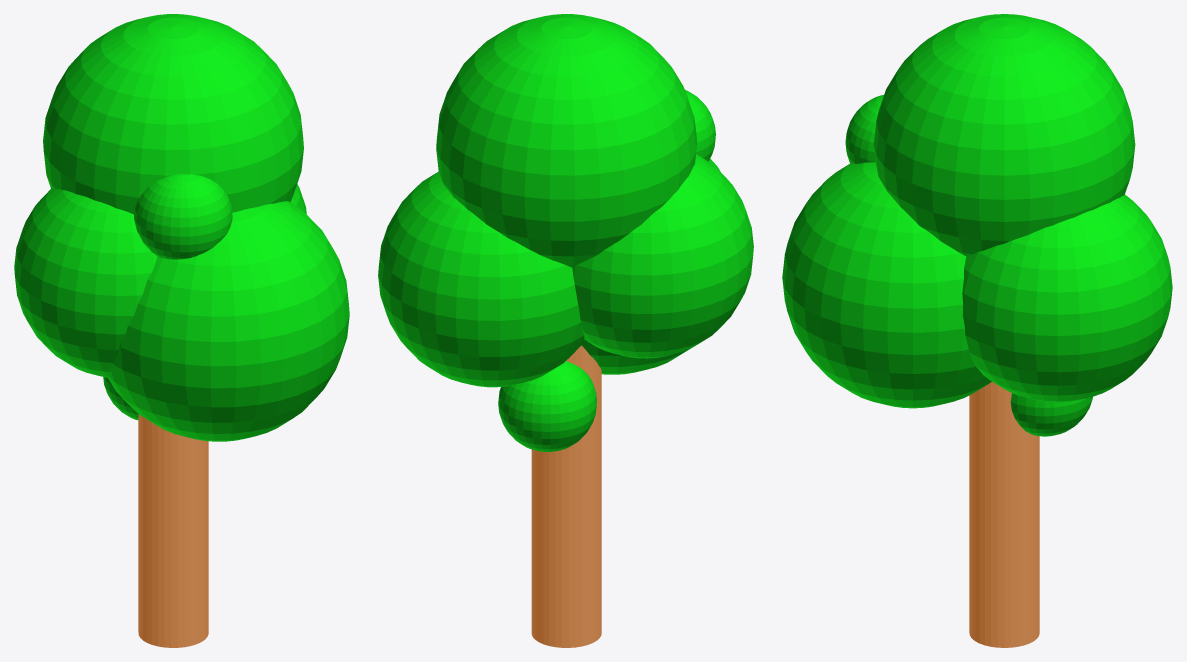
The model's file is tree_custom.gltf.
3 renders of one model, left to right at view 1: azimuth 30°, elevation 25°; view 2: azimuth 150°, elevation 25°; view 3: azimuth 270°, elevation 25°, orthographic.
Parts seen in each view (by area): view 1: Sphere, Cylinder; view 2: Sphere, Cylinder; view 3: Sphere, Cylinder.
Part boxes in pixels (x1,y1,x2,y2): Sphere: [14, 14, 349, 441]; Cylinder: [138, 414, 208, 647]; Sphere: [378, 14, 753, 451]; Cylinder: [531, 345, 601, 647]; Sphere: [782, 14, 1172, 436]; Cylinder: [969, 382, 1039, 647].
Bounding box in the file's own units: 1.45 × 2.74 × 1.6.
